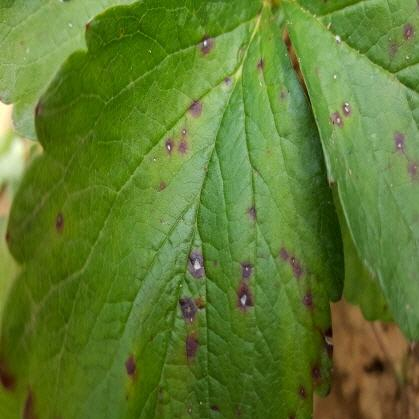Leaf Spot: (0, 0, 344, 418), (275, 0, 418, 342)
